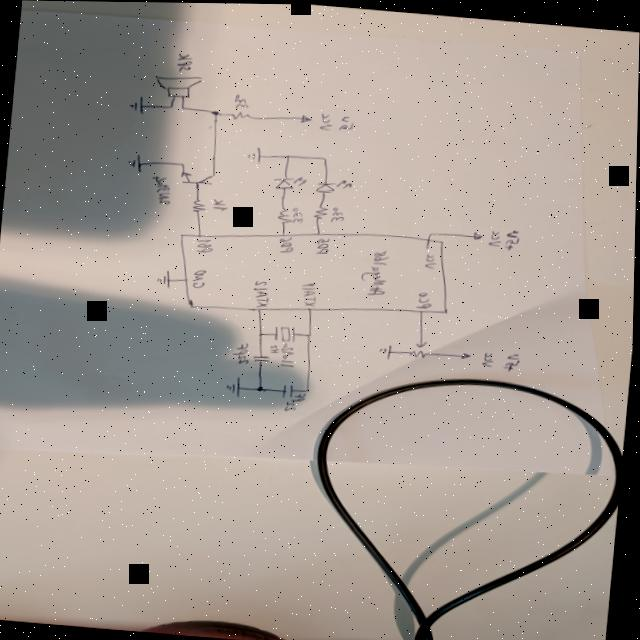capacitor: (253, 353, 274, 362), (284, 382, 297, 395)
diode: (317, 175, 357, 195), (272, 173, 309, 193)
ground: (156, 267, 175, 288), (127, 152, 146, 173), (129, 95, 148, 114), (247, 144, 266, 163), (227, 376, 244, 395), (378, 341, 397, 358)
junction: (211, 108, 221, 115), (259, 384, 269, 391), (321, 154, 330, 160), (258, 330, 266, 336), (285, 152, 293, 158), (179, 104, 187, 110), (168, 103, 176, 109), (307, 331, 315, 336), (181, 161, 189, 166), (431, 230, 438, 234), (307, 387, 313, 391)
resistor: (406, 337, 433, 357), (279, 205, 297, 222), (191, 196, 211, 211), (314, 203, 331, 218), (230, 109, 255, 119)
source: (298, 111, 314, 123), (471, 228, 487, 239), (460, 349, 475, 359)
text: (359, 248, 395, 296), (150, 173, 177, 205), (253, 278, 274, 308), (299, 279, 322, 306), (500, 226, 524, 249), (286, 389, 310, 412), (503, 349, 526, 372), (281, 340, 300, 367), (234, 340, 253, 364), (175, 52, 196, 71), (192, 267, 210, 288), (278, 234, 297, 253), (316, 235, 334, 254), (417, 289, 436, 307), (489, 227, 508, 245), (195, 237, 216, 252), (424, 250, 441, 268), (319, 110, 335, 129), (339, 113, 356, 130), (211, 197, 231, 210), (233, 93, 249, 108), (333, 206, 348, 221), (484, 350, 499, 365), (292, 206, 306, 221), (269, 343, 283, 352)
transistor: (179, 167, 220, 185)
